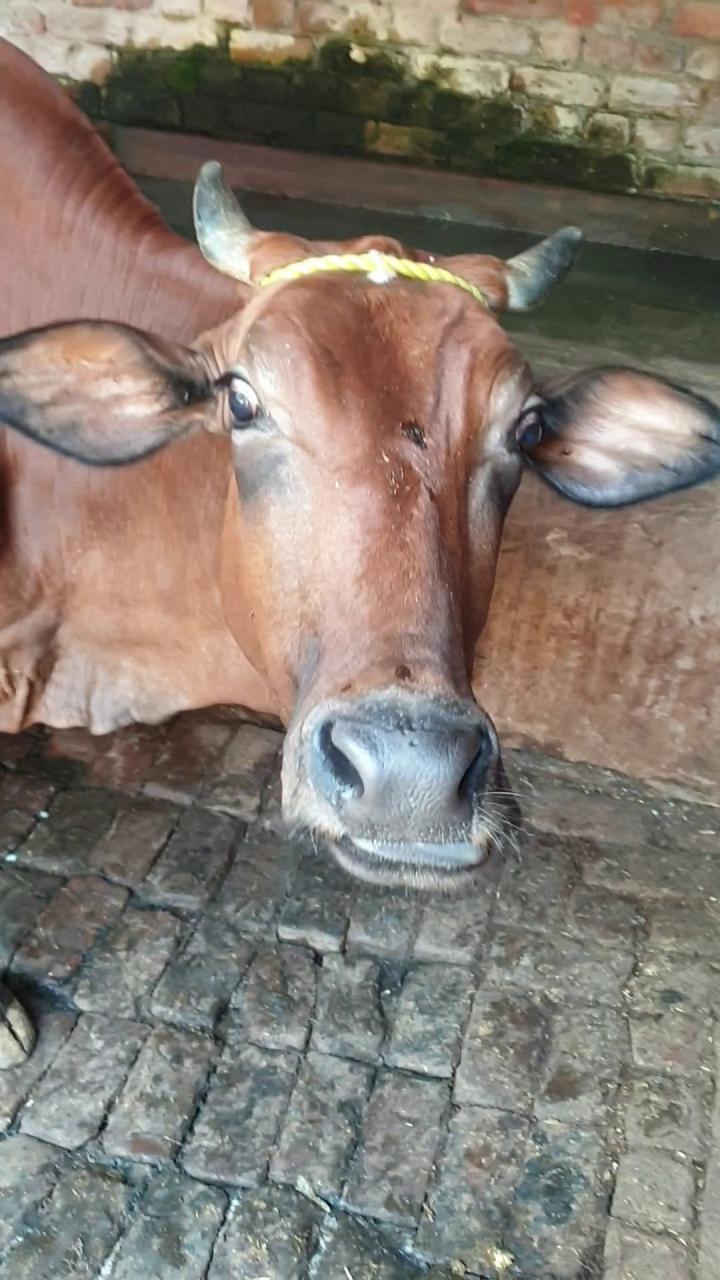cows: (190, 232, 590, 893)
